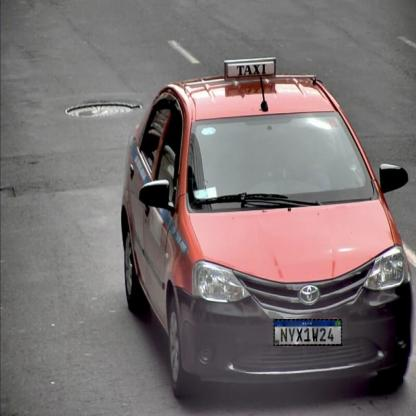PlacaM: (274, 319, 342, 346)
